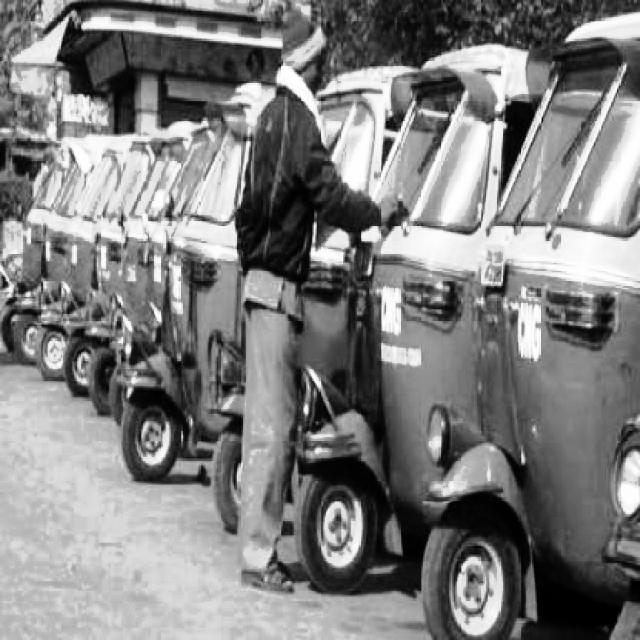Auto-Rickshaw: (426, 5, 636, 636), (344, 51, 482, 627), (143, 121, 195, 467), (32, 128, 92, 382), (99, 132, 143, 420), (8, 132, 40, 358)
